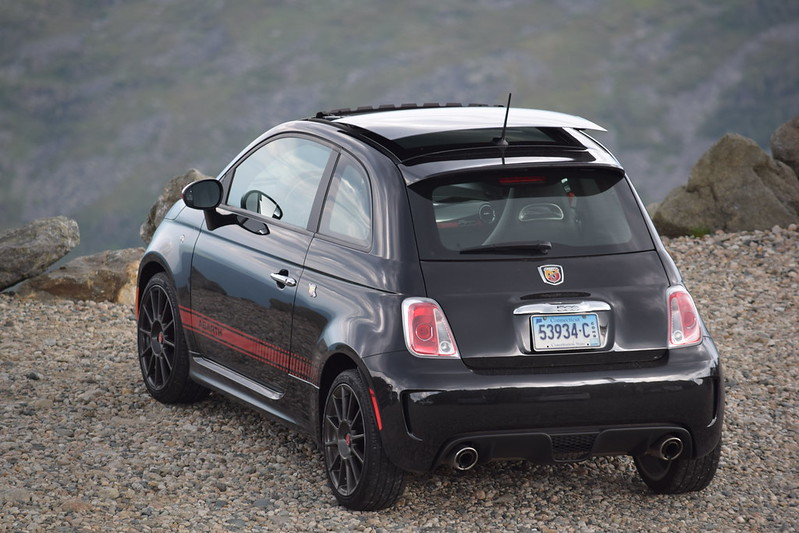car: (123, 92, 734, 504)
